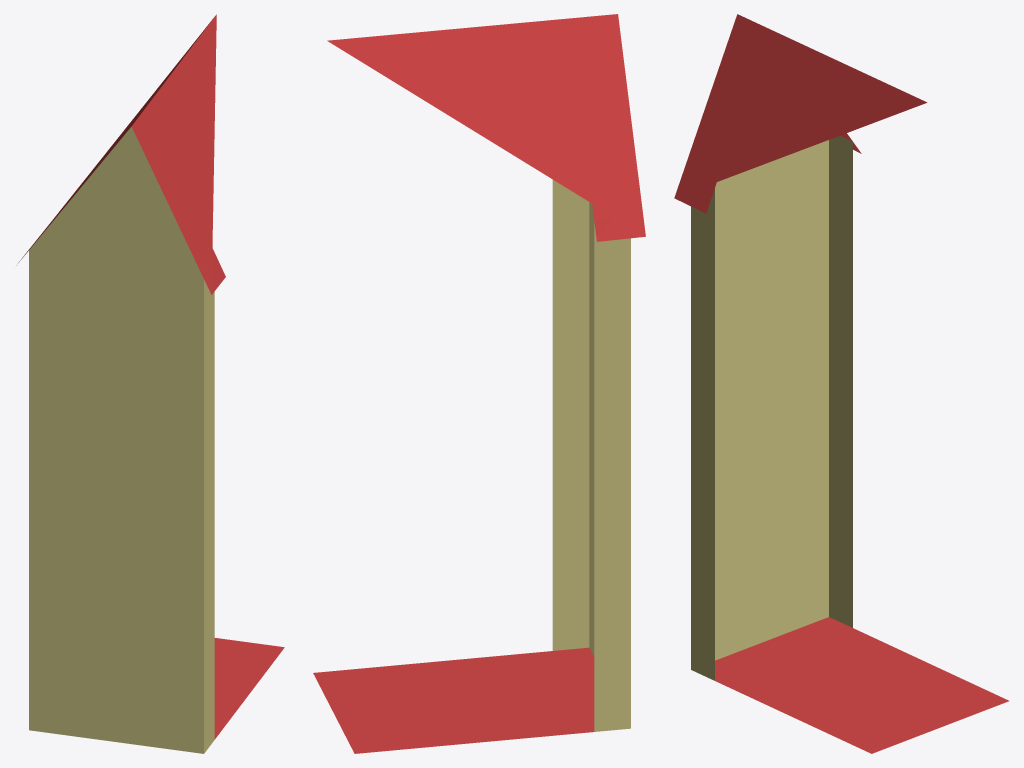
The picture shows the model from 3 angles, left to right: view 1: azimuth 30°, elevation 25°; view 2: azimuth 150°, elevation 25°; view 3: azimuth 270°, elevation 25°; orthographic projection. The views are drawn at different scales.
Visible parts, largest first — view 1: group_5, group_3, group_6; view 2: group_5, group_3, group_6; view 3: group_5, group_3, group_6.
Boxes of the visible parts, x1,y1,x2,y2 form: group_5: [29, 127, 214, 753]; group_3: [16, 14, 225, 294]; group_6: [214, 638, 284, 739]; group_5: [552, 180, 630, 731]; group_3: [327, 14, 645, 241]; group_6: [313, 647, 594, 753]; group_5: [691, 136, 852, 680]; group_3: [674, 14, 927, 213]; group_6: [715, 617, 1008, 753].
Size of the model in its own units: 7.16 by 7.04 by 14.61.
